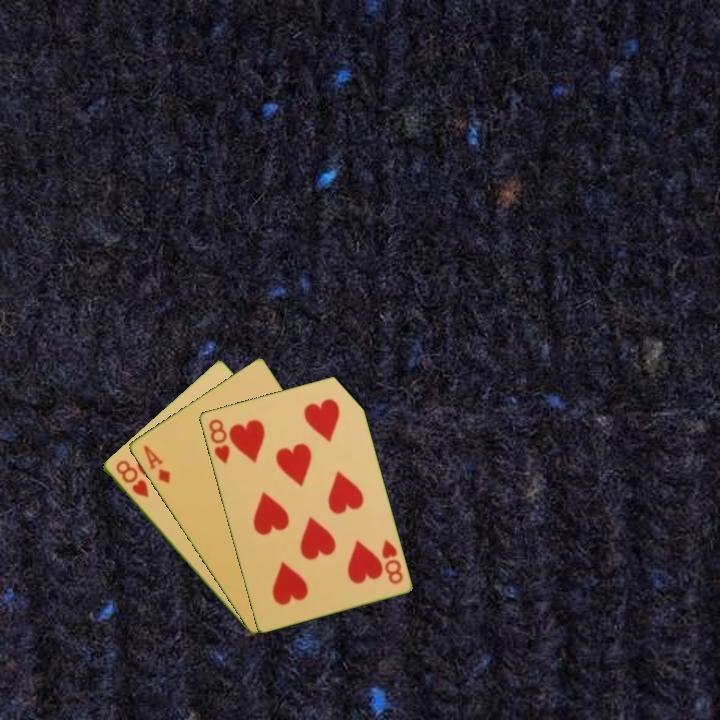8h: (112, 456, 152, 501), (378, 536, 406, 587), (205, 415, 232, 467)
Ad: (140, 441, 173, 486)
